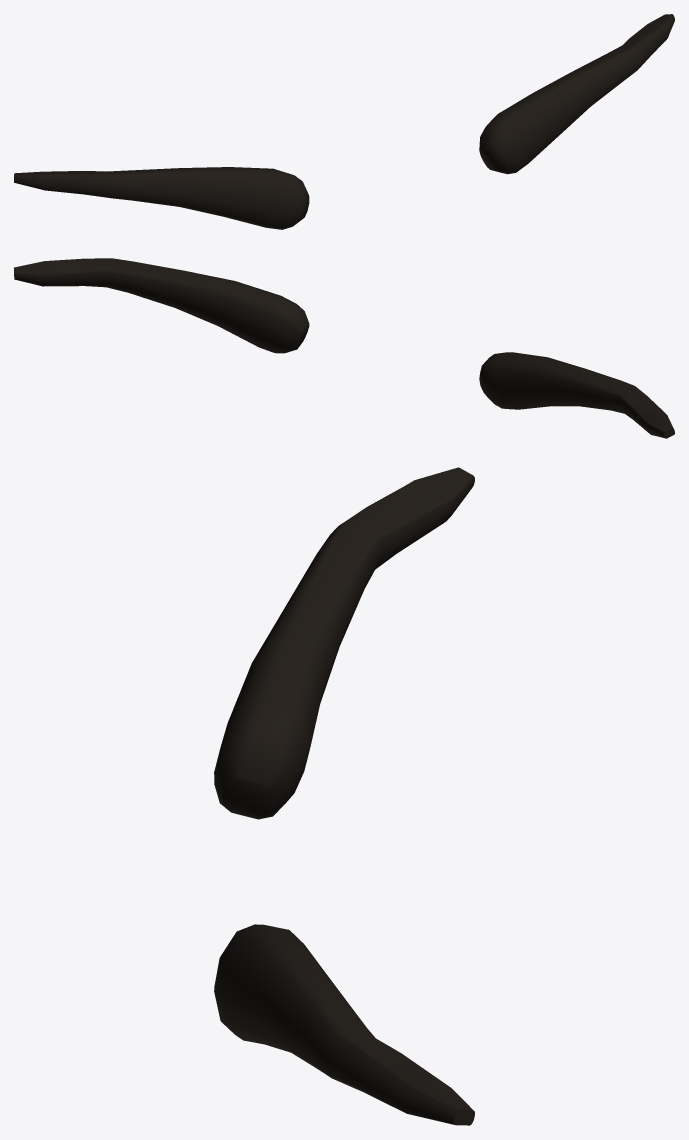
Rendered from Eyebrows_26_01.fbx.
3 views of the same model, one above another, from view 1: azimuth 30°, elevation 25°; view 2: azimuth 150°, elevation 25°; view 3: azimuth 270°, elevation 25° (orthographic). The views are drawn at different scales.
Visible parts, largest first — view 1: Eyebrows_26_01; view 2: Eyebrows_26_01; view 3: Eyebrows_26_01.
Boxes of the visible parts, box(x1,y1,x2,y2) form: Eyebrows_26_01: box(14, 14, 674, 229); Eyebrows_26_01: box(14, 258, 674, 438); Eyebrows_26_01: box(214, 467, 474, 1125).
Bounding box in the file's own units: 17.7 × 1.89 × 3.02.
